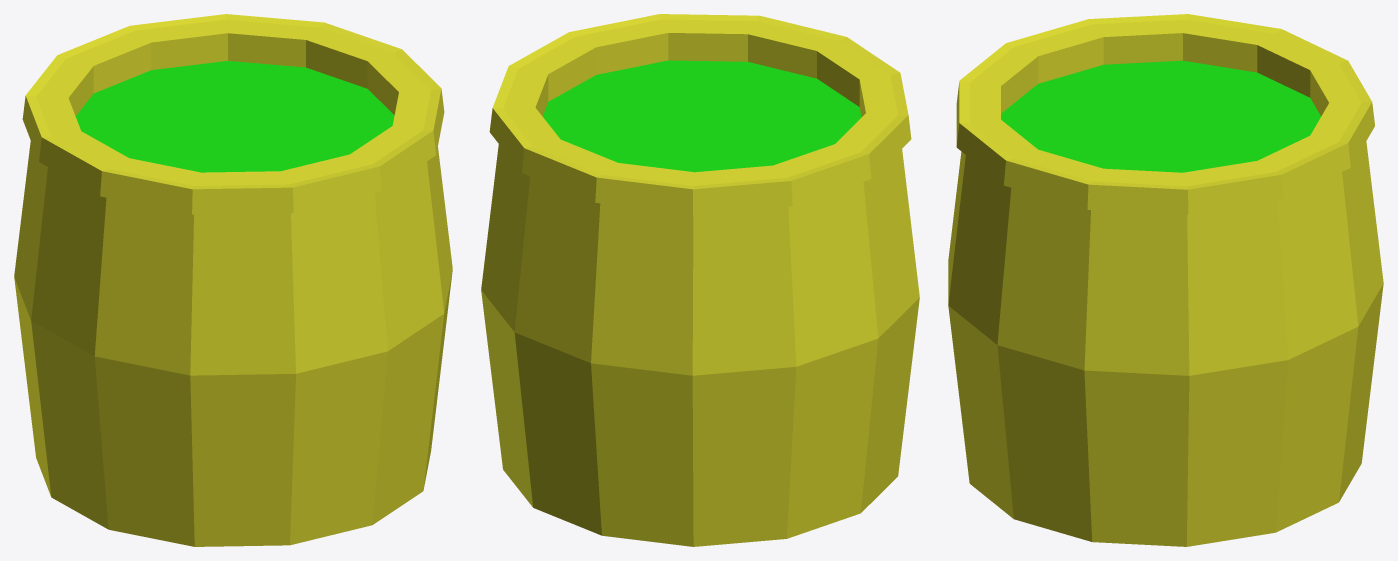
The model's file is barrel.fbx.
The picture shows the model from 3 angles, left to right: view 1: azimuth 30°, elevation 25°; view 2: azimuth 150°, elevation 25°; view 3: azimuth 270°, elevation 25°; orthographic projection.
Visible parts, largest first — view 1: Cylinder; view 2: Cylinder; view 3: Cylinder.
Boxes of the visible parts, box(x1,y1,x2,y2) form: Cylinder: box(14, 14, 452, 546); Cylinder: box(481, 14, 919, 546); Cylinder: box(948, 14, 1383, 546).
Bounding box in the file's own units: 220 × 201 × 219.
